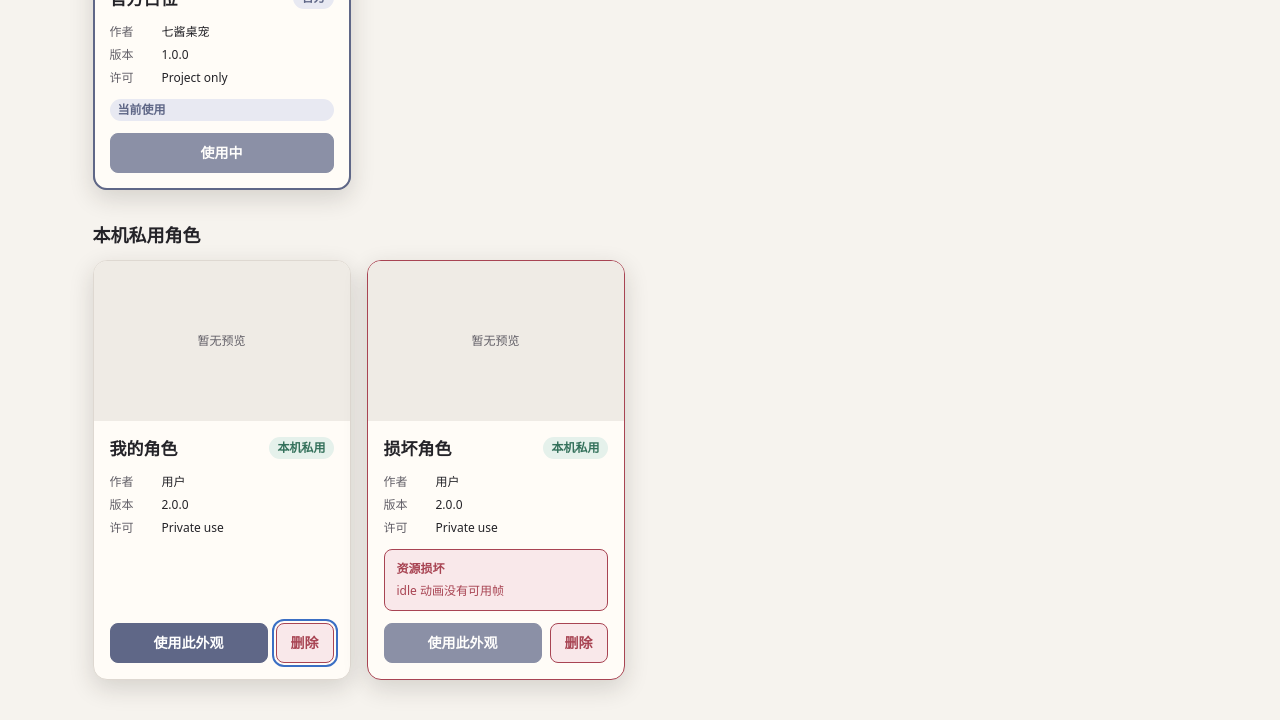
Test: AppearanceCenter › returns focus to delete when the confirmation is cancelled with Escape
(page scrolled)
Click the button with class "danger" below "我的角色" at [304, 643], box [276, 623, 334, 663]
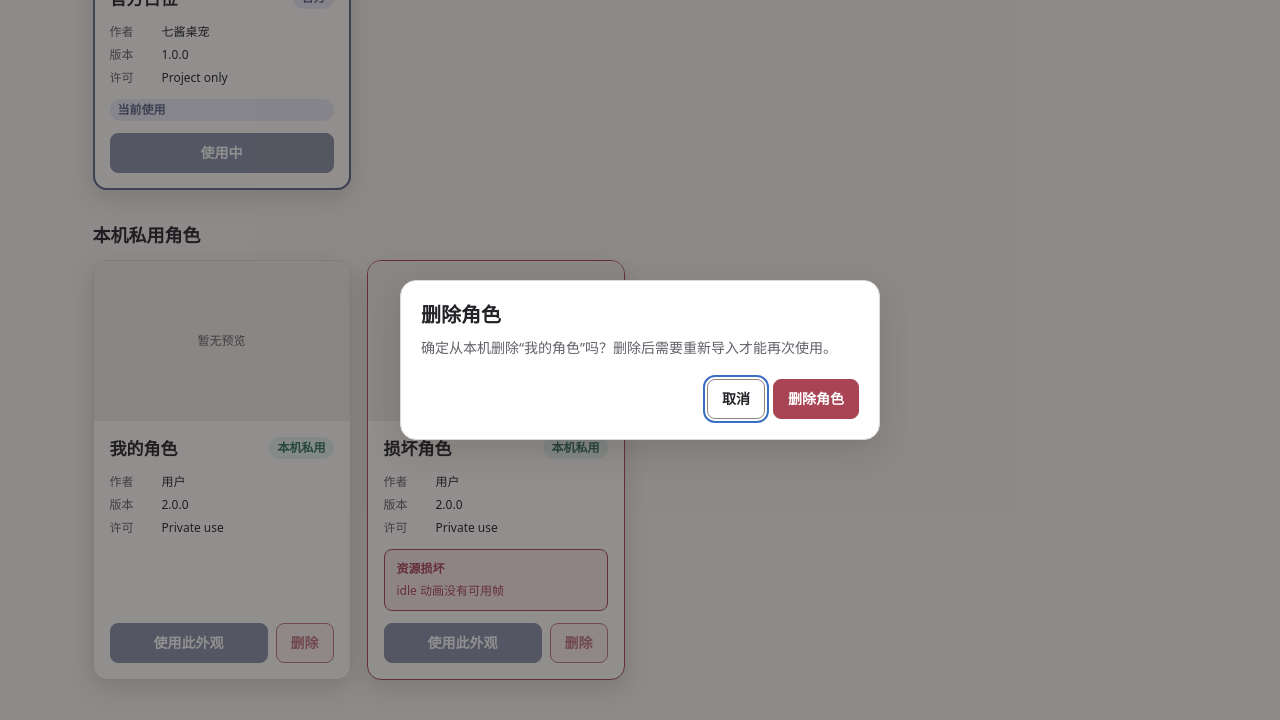
Press Escape in the dialog "删除角色", box [400, 280, 880, 440]
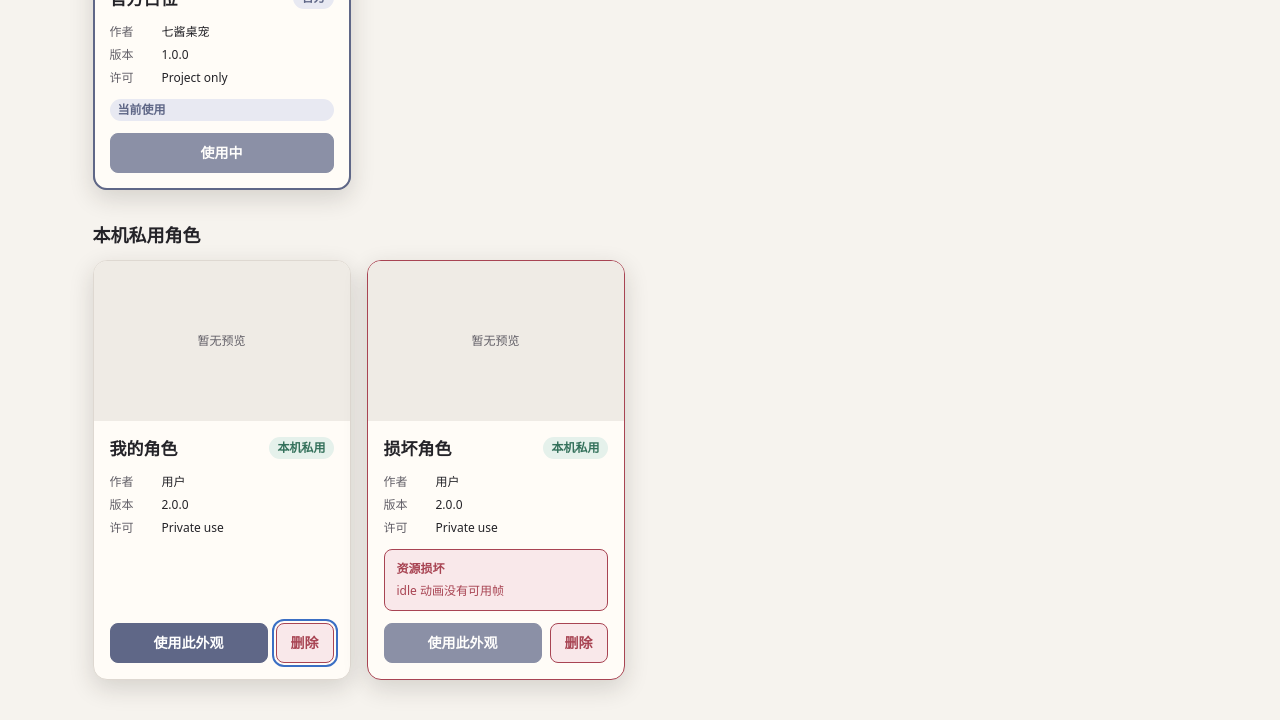
Check: the heading "删除角色" is gone
